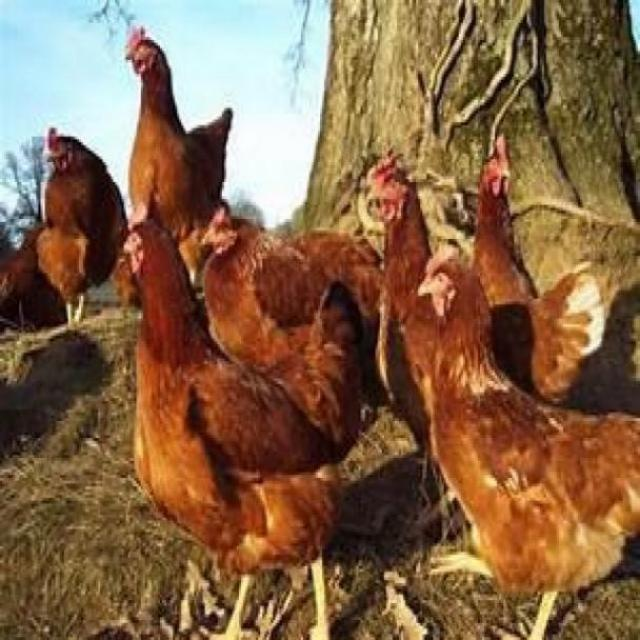Chicken: (122, 216, 365, 640), (418, 252, 640, 640), (369, 151, 606, 466), (205, 208, 382, 367), (124, 26, 233, 236), (34, 128, 128, 324), (474, 137, 538, 307)
